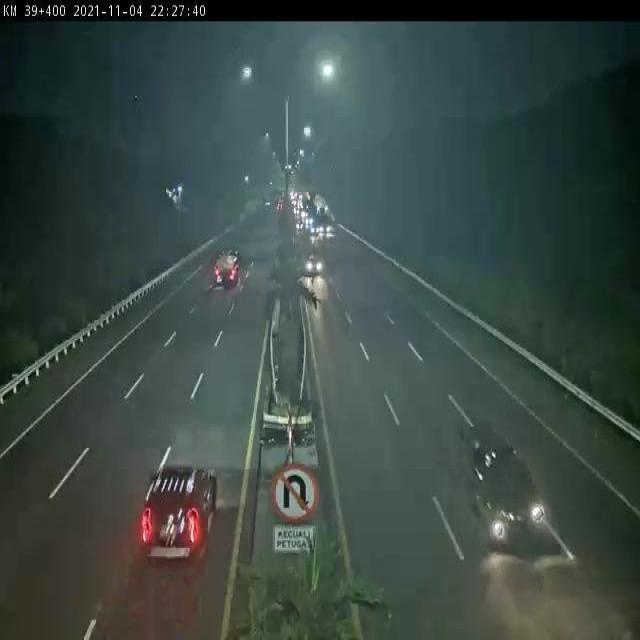car: (466, 431, 547, 551), (139, 464, 215, 556), (306, 249, 321, 275)
truck: (214, 244, 240, 287)
